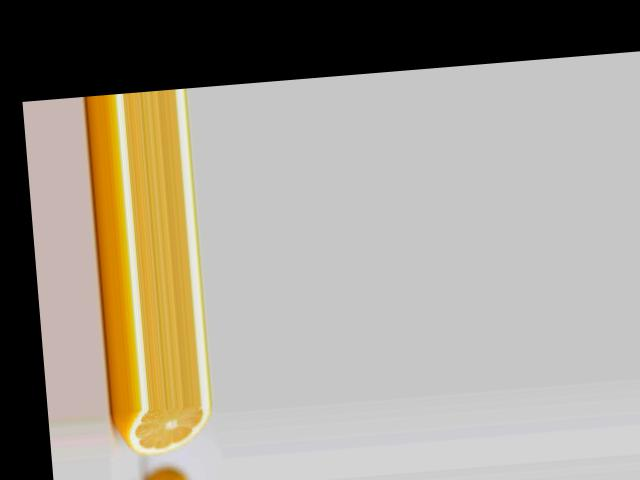lemon: (147, 468, 190, 480)
